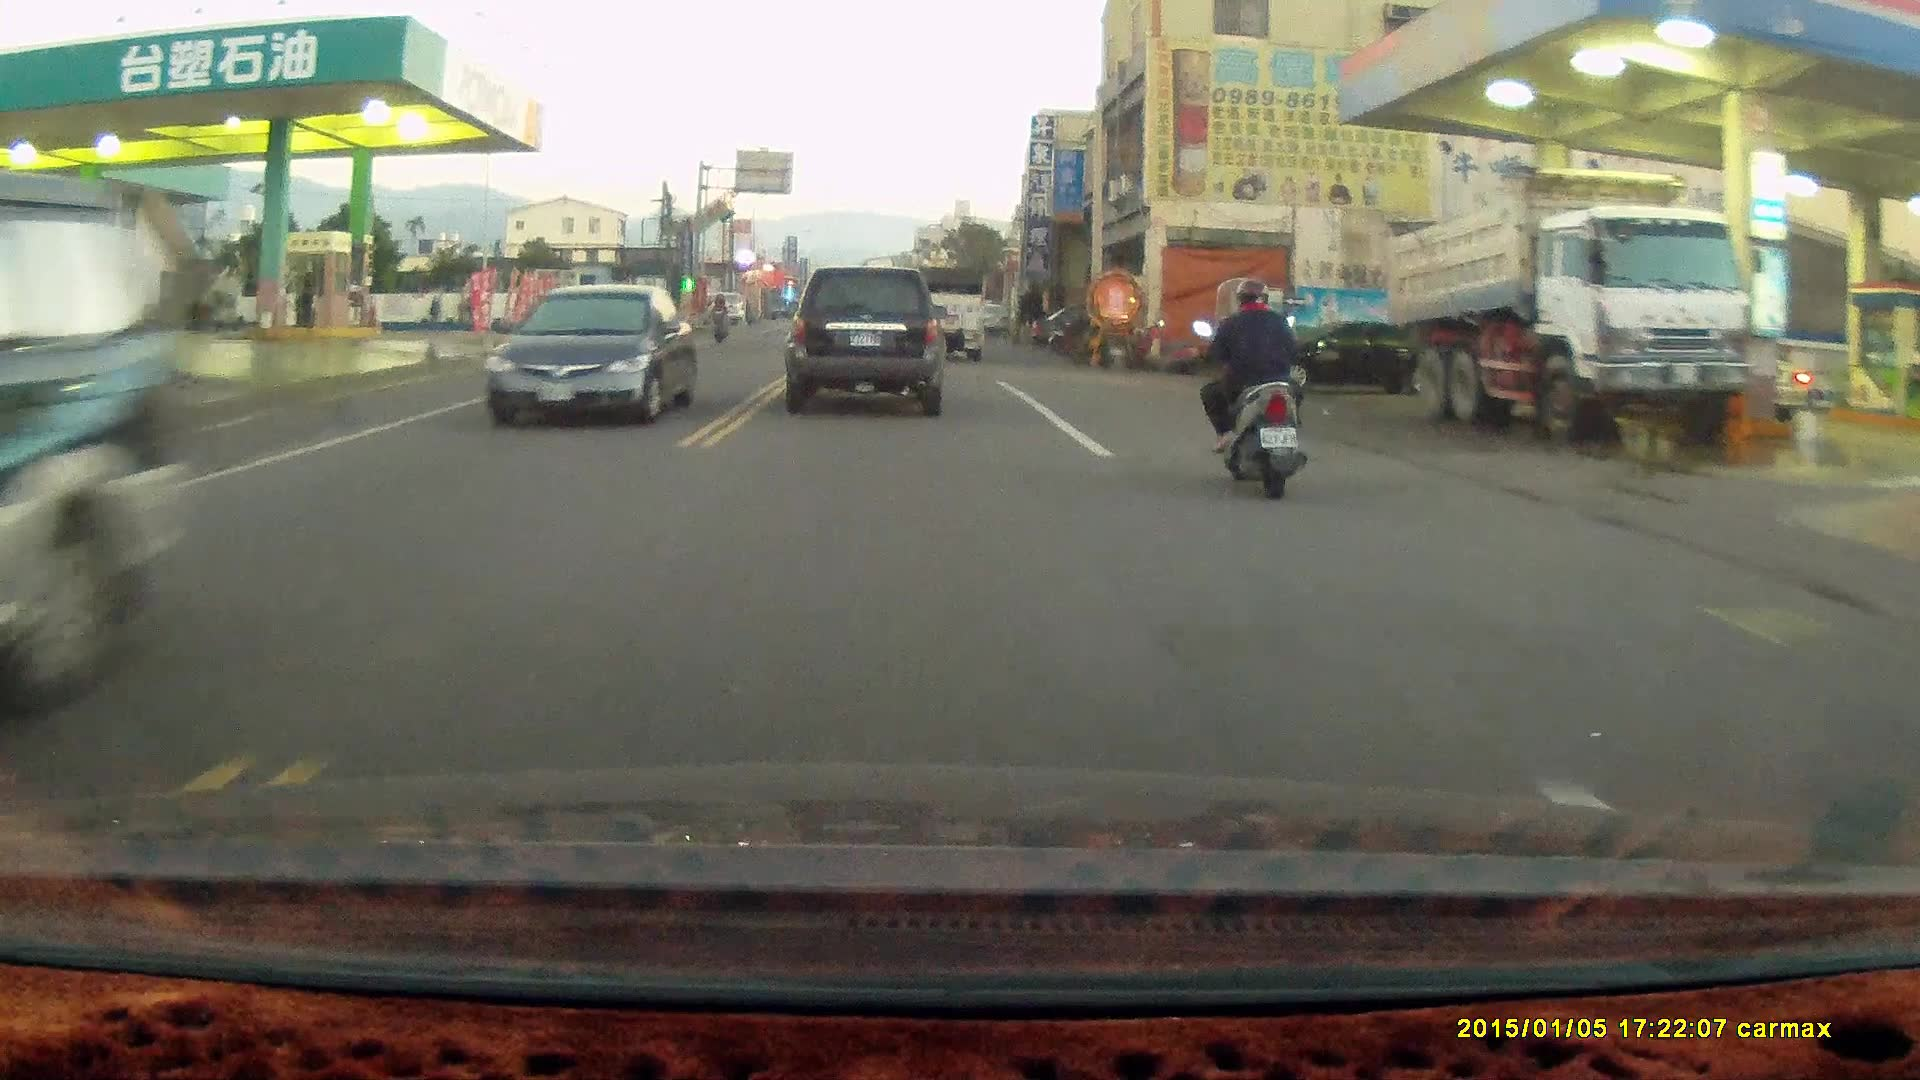rider: (1190, 274, 1307, 500), (704, 290, 730, 345)
vehicle: (1, 168, 199, 717), (1385, 159, 1746, 443), (489, 281, 697, 427), (785, 261, 950, 411), (907, 262, 990, 365)
